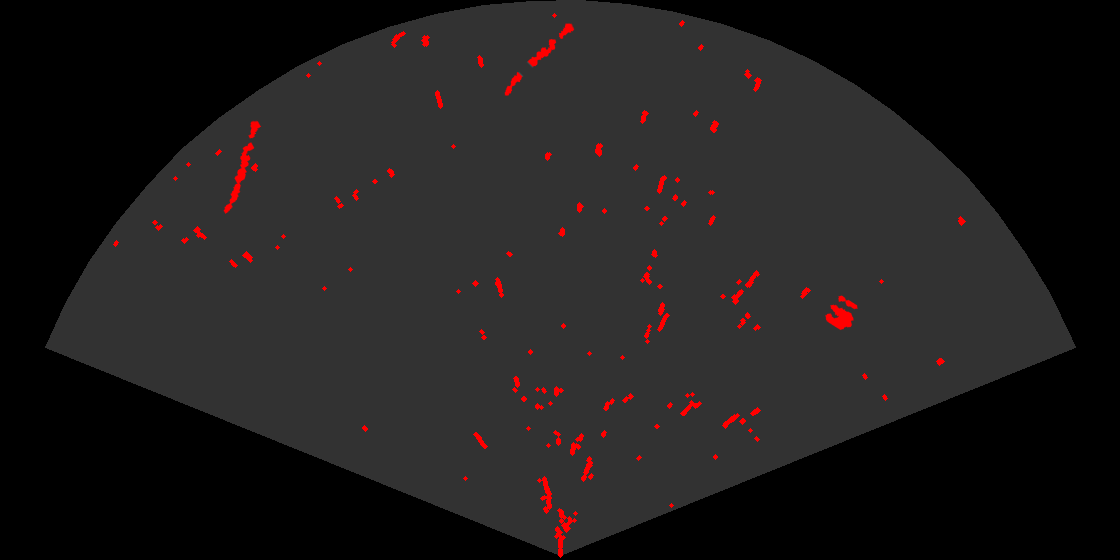ball: (824, 294, 859, 332)
chain: (503, 22, 576, 97), (222, 118, 263, 215)
